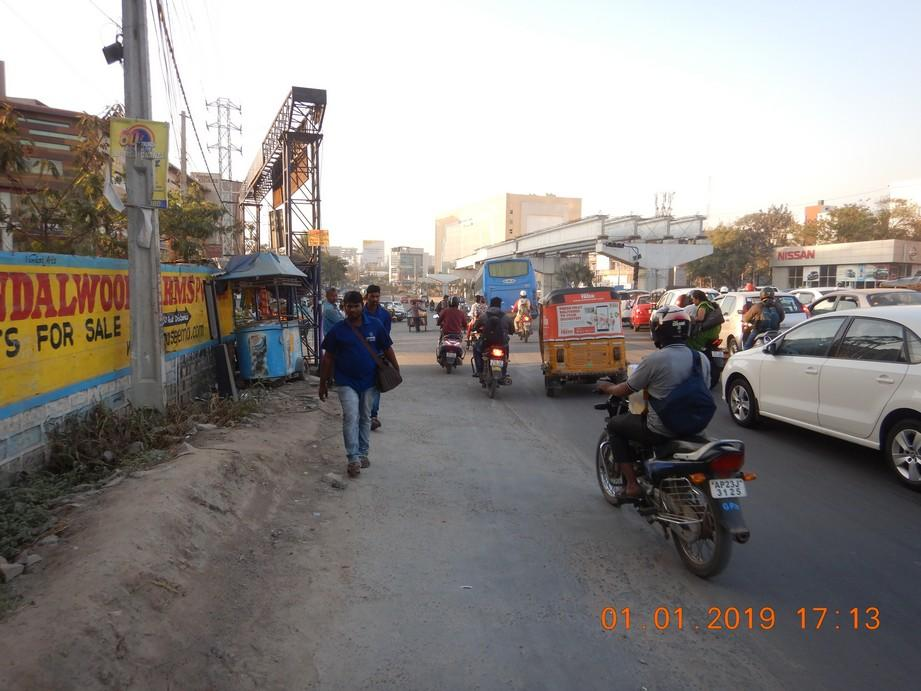plate: (708, 477, 747, 498)
